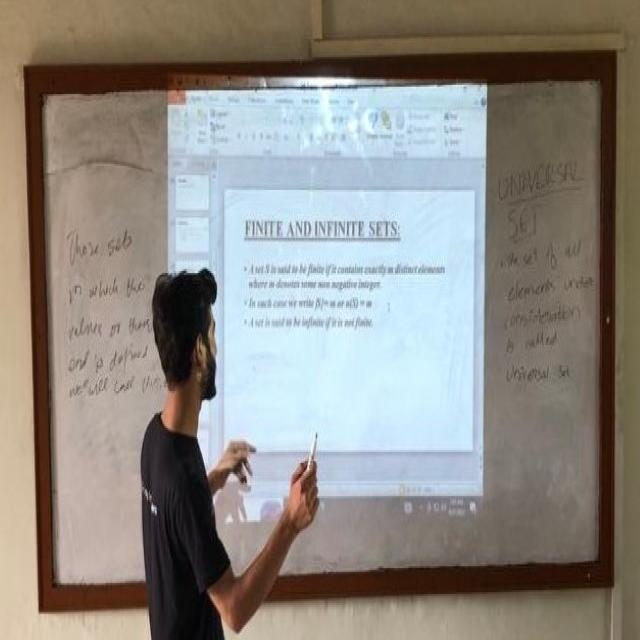Instructor: (123, 254, 243, 640)
Slide: (164, 69, 486, 523)
White-board: (34, 62, 609, 595)
